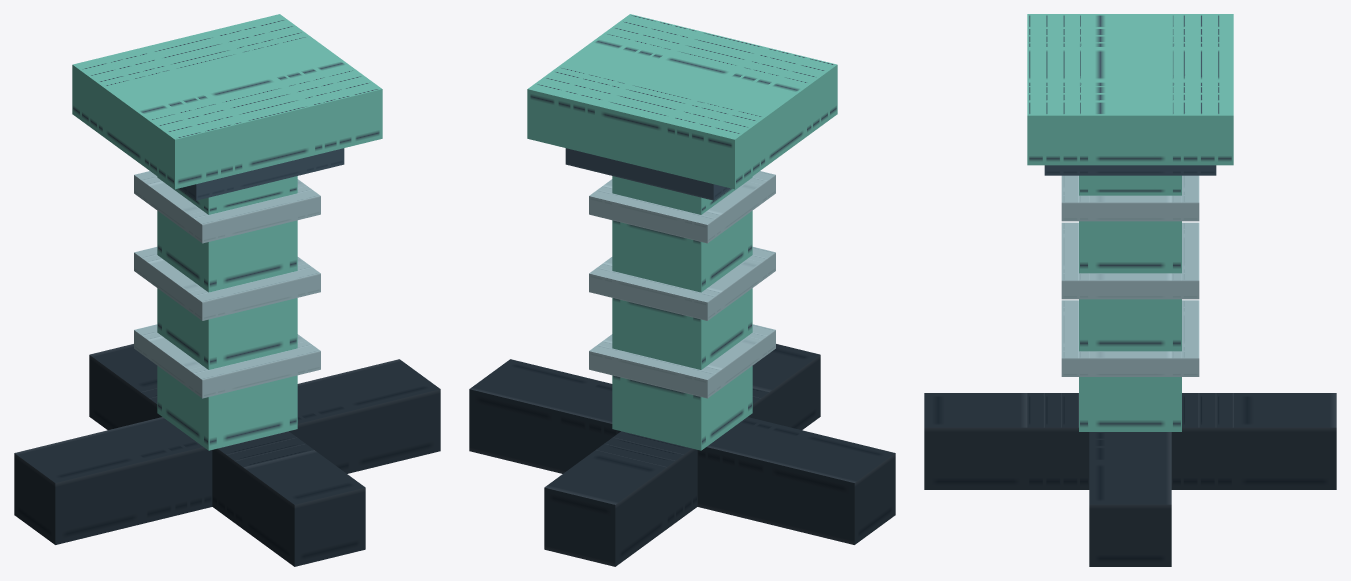
Rendered from sc_lobby_robot_beacon.obj.
The picture shows the model from 3 angles, left to right: view 1: azimuth 30°, elevation 25°; view 2: azimuth 150°, elevation 25°; view 3: azimuth 270°, elevation 25°; orthographic projection.
Size of the model in its own units: 13 by 13.1 by 12.
Materials: 1 (1 with a texture image).
